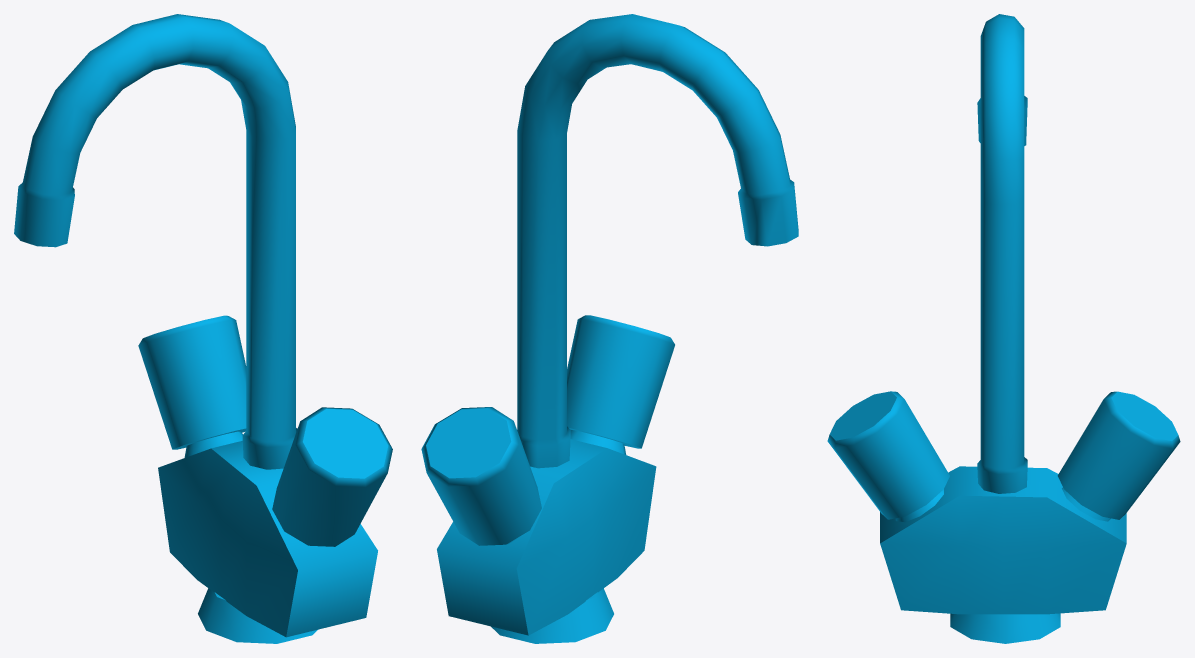
Rendered from Bathroom_Faucet_01_Lod0.fbx.
3 views of the same model, side by side, from view 1: azimuth 30°, elevation 25°; view 2: azimuth 150°, elevation 25°; view 3: azimuth 270°, elevation 25° (orthographic). The views are drawn at different scales.
Parts seen in each view (by area): view 1: Bathroom_Faucet_01_Lod0; view 2: Bathroom_Faucet_01_Lod0; view 3: Bathroom_Faucet_01_Lod0.
Part boxes in pixels (bbox=[...]): Bathroom_Faucet_01_Lod0: bbox=[14, 14, 392, 643]; Bathroom_Faucet_01_Lod0: bbox=[421, 14, 798, 643]; Bathroom_Faucet_01_Lod0: bbox=[827, 14, 1180, 643].
Bounding box in the file's own units: 18.86 × 36.9 × 21.58.
